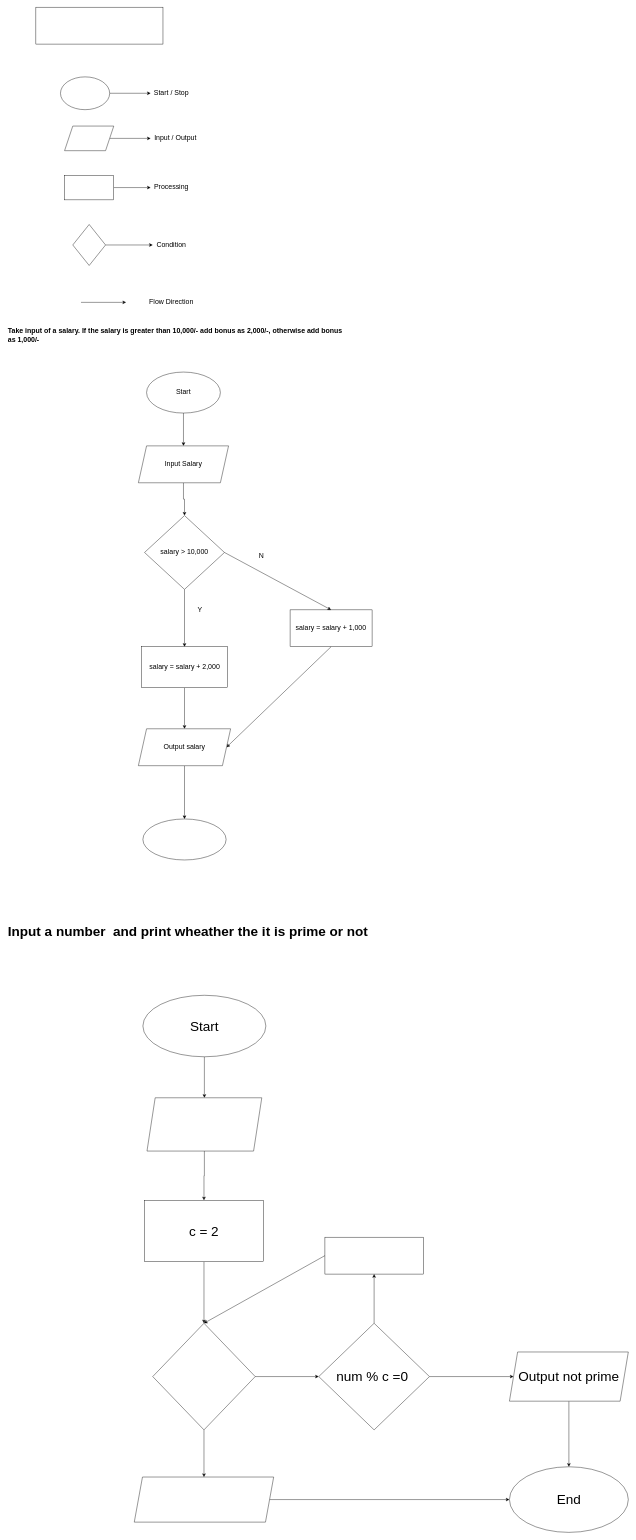
This 636x1540 diagram has some shape labels left out. The centre of each missing label's shape, as x and y in pixels:
"c < num" goes at (x=203, y=1376).
"c = c + 1" goes at (x=374, y=1255).
"Flowcharts: -" goes at (x=99, y=25).
"Input num" goes at (x=204, y=1124).
"Output prime" goes at (x=204, y=1499).
"Stop" goes at (x=184, y=839).
